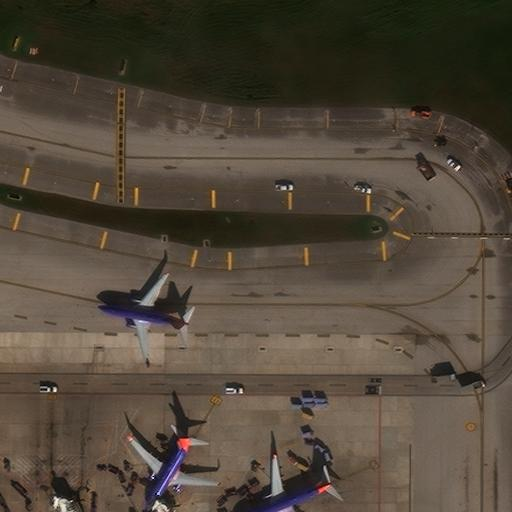Medium Civil Transport: (98, 273, 188, 361), (127, 435, 217, 510), (239, 453, 331, 512)
